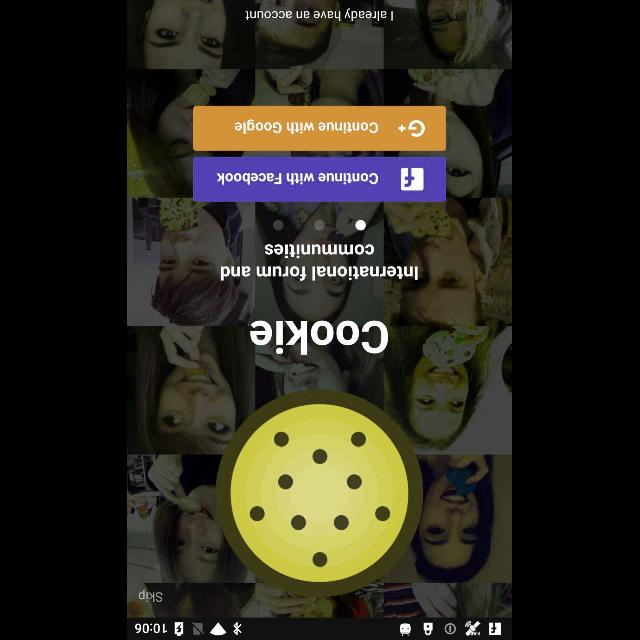backgroundimage: (128, 0, 512, 618)
image: (216, 388, 424, 598)
pageindicator: (274, 220, 366, 230)
text: (222, 243, 418, 280), (251, 320, 389, 354), (246, 7, 394, 20), (139, 590, 163, 602)
textbutton: (194, 156, 446, 202), (194, 106, 446, 150)
uppertaskbar: (128, 617, 512, 639)
